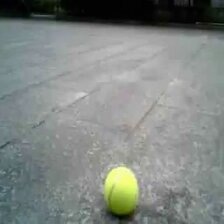tennis: (106, 168, 138, 213)
